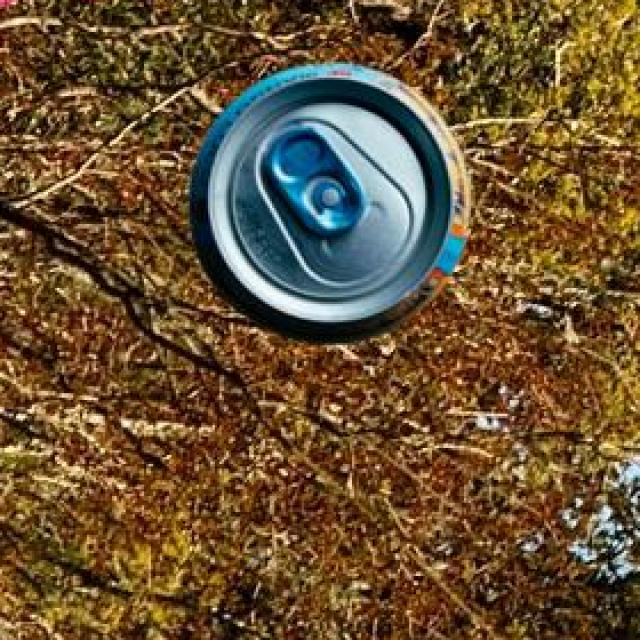logam: (193, 67, 474, 346)
